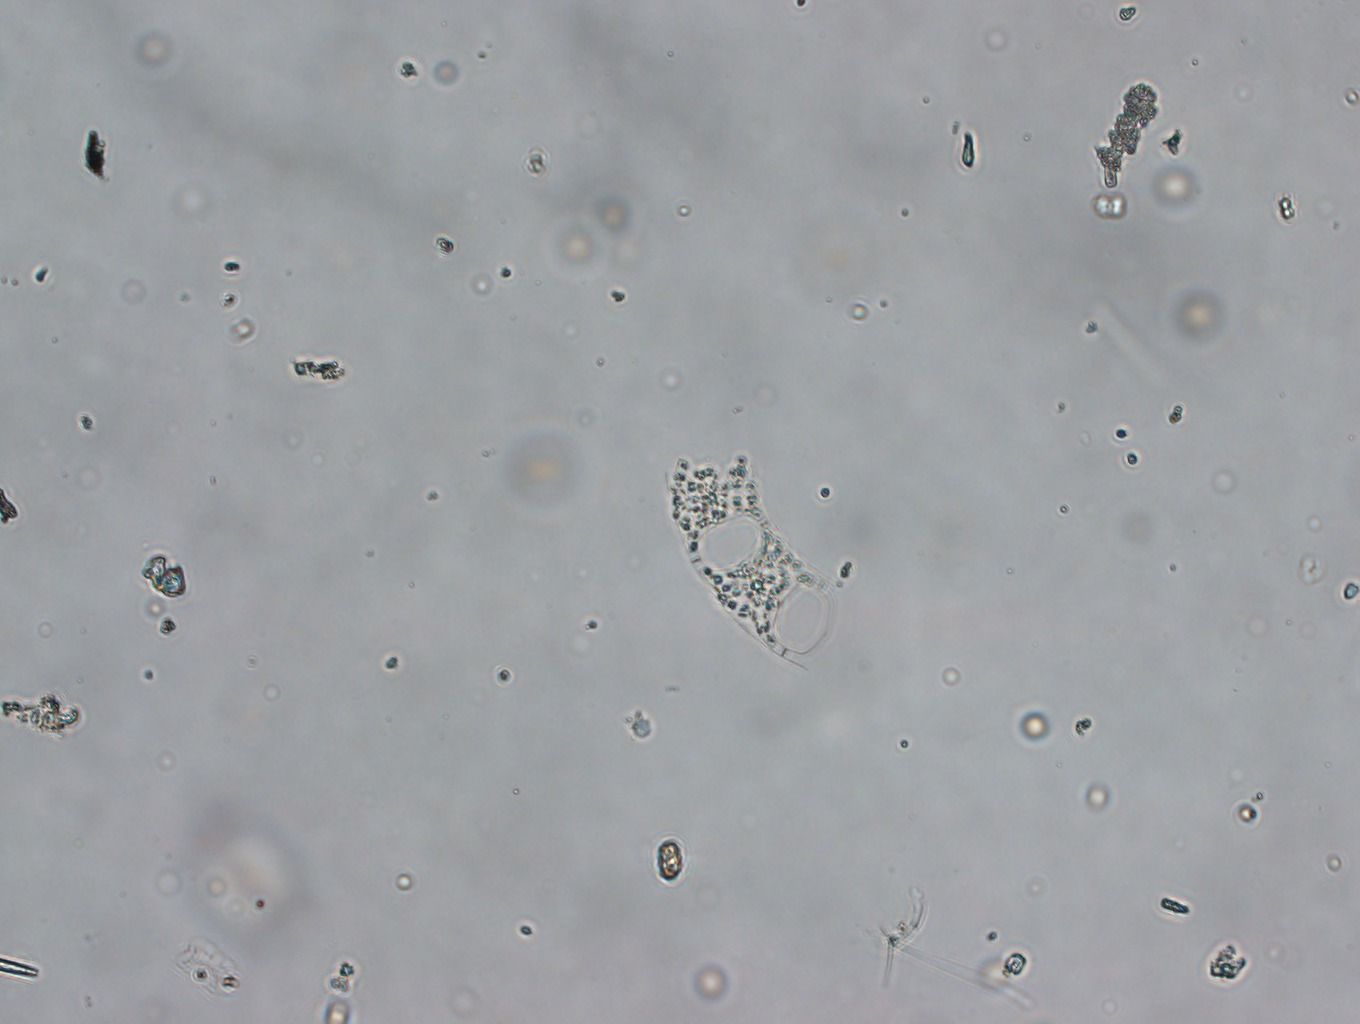eucampia: (659, 426, 867, 674)
